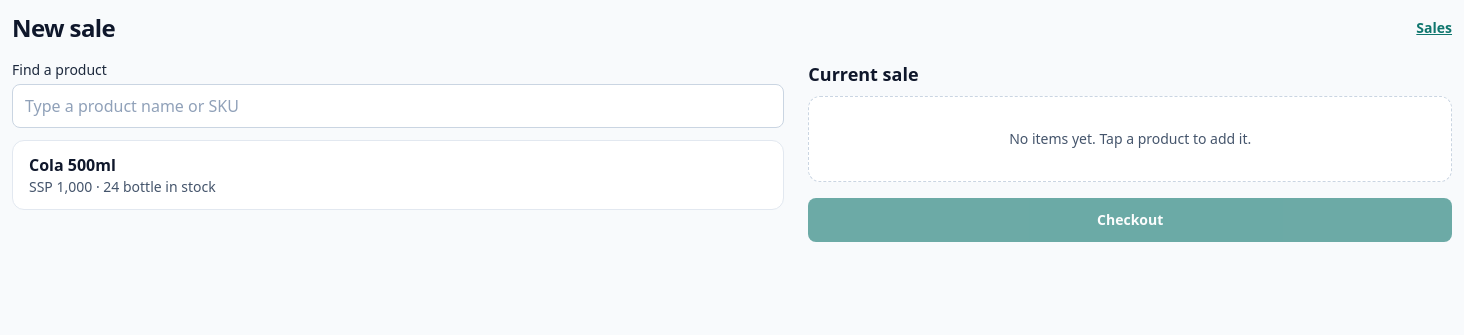
Test: NewSalePage › warns when the quantity is more than the stock
Click the button "Cola 500ml SSP 1,000 · 24 bottle in stock" at (72, 165), box 13,141 -> 783,209
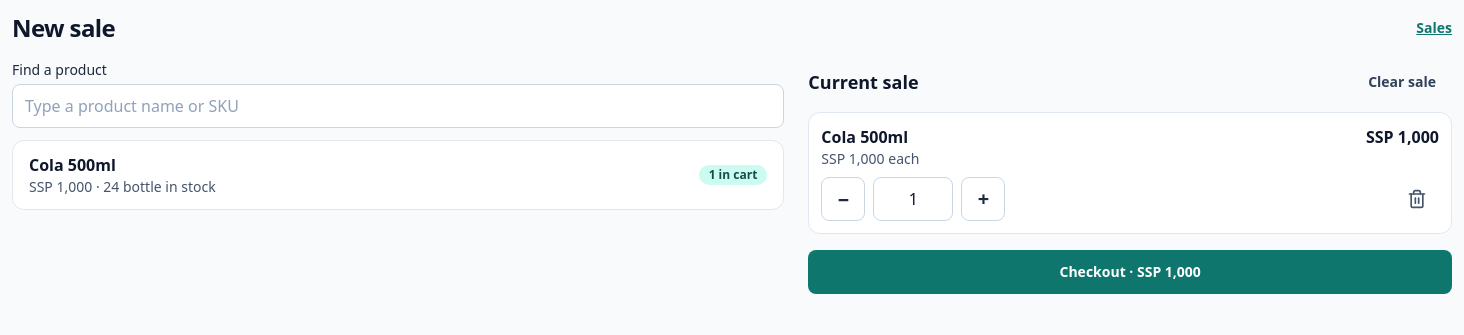
Replace the text in the field named "Quantity" with "30" at (913, 199), box 873,177 -> 953,221
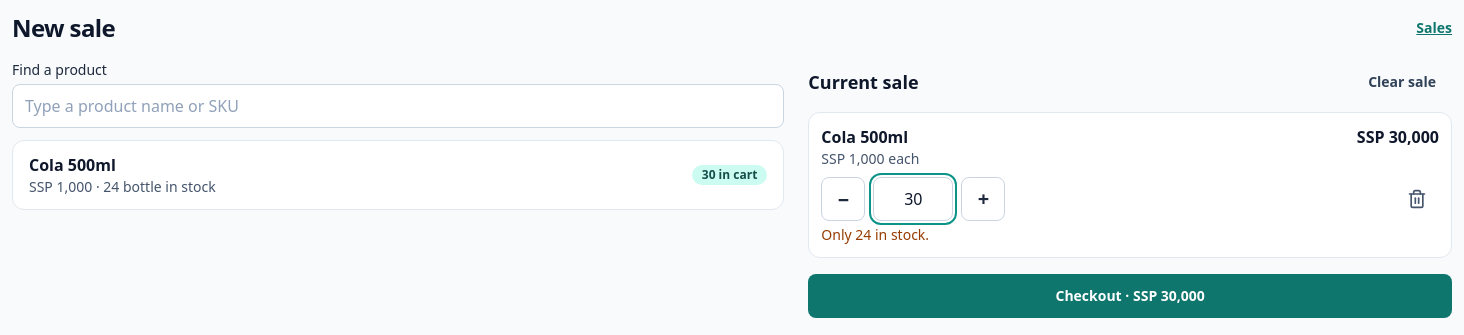
Check: the text "Only 24 in stock." is shown, box 821,225 -> 929,244
